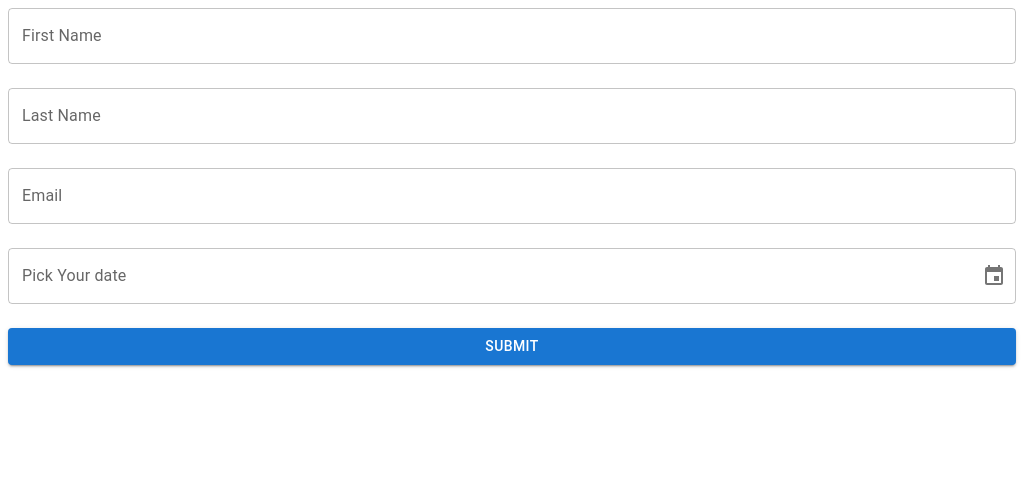
Test Inputs and validations › should get an error message when try to submit the form with with an empty date field
This screenshot has width=1024, height=483.
In the field labelled "Pick Your date": (487, 276) x1=8 y1=248 x2=966 y2=304, type "null"
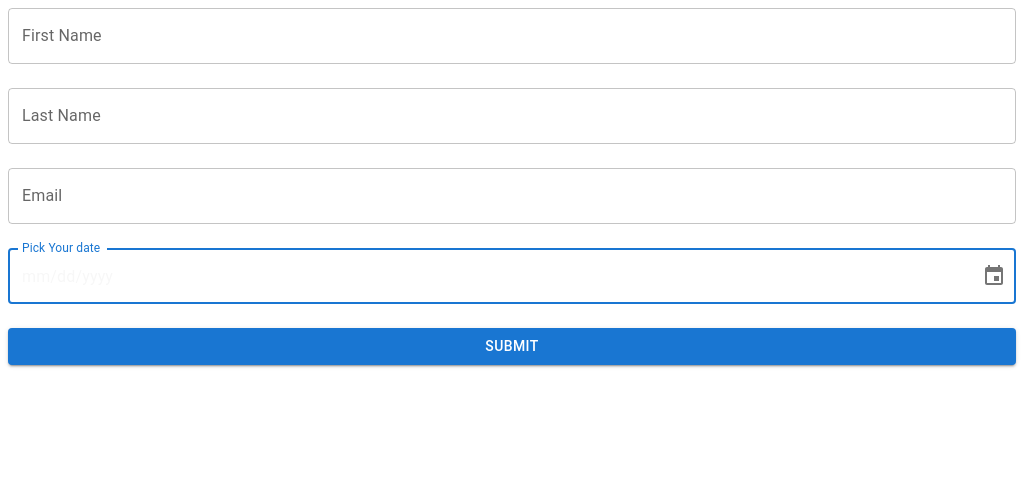
Click the button "Submit": (512, 346) x1=8 y1=328 x2=1016 y2=364
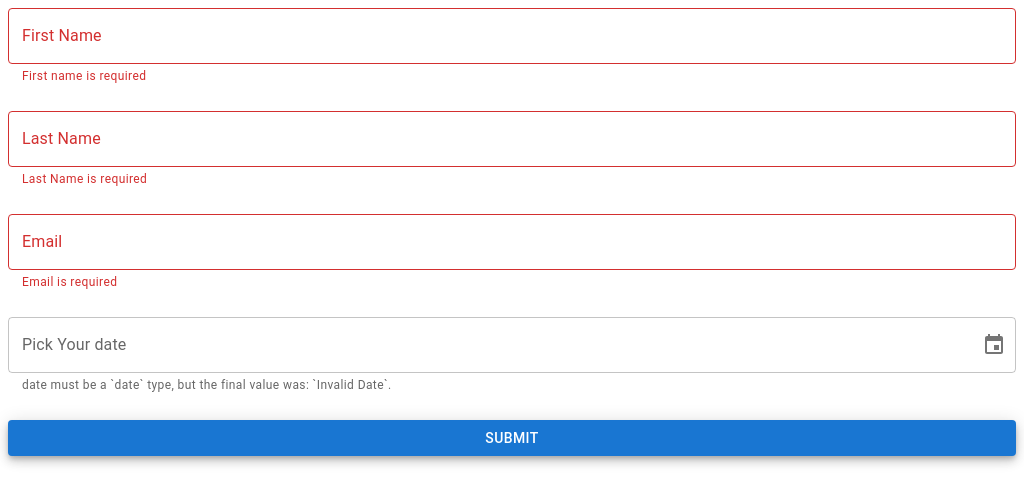
Result: the text "date must be a `date` type, but the final value was: `Invalid Date`" is shown at x1=22 y1=378 x2=392 y2=392
